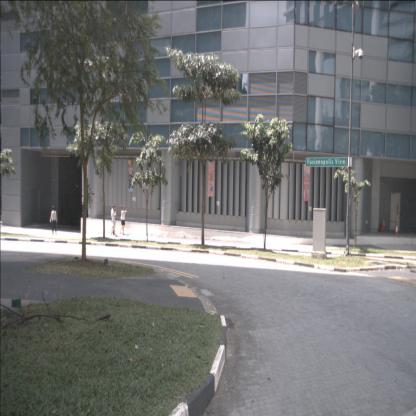cone: (394, 221, 400, 237), (382, 218, 386, 232)
